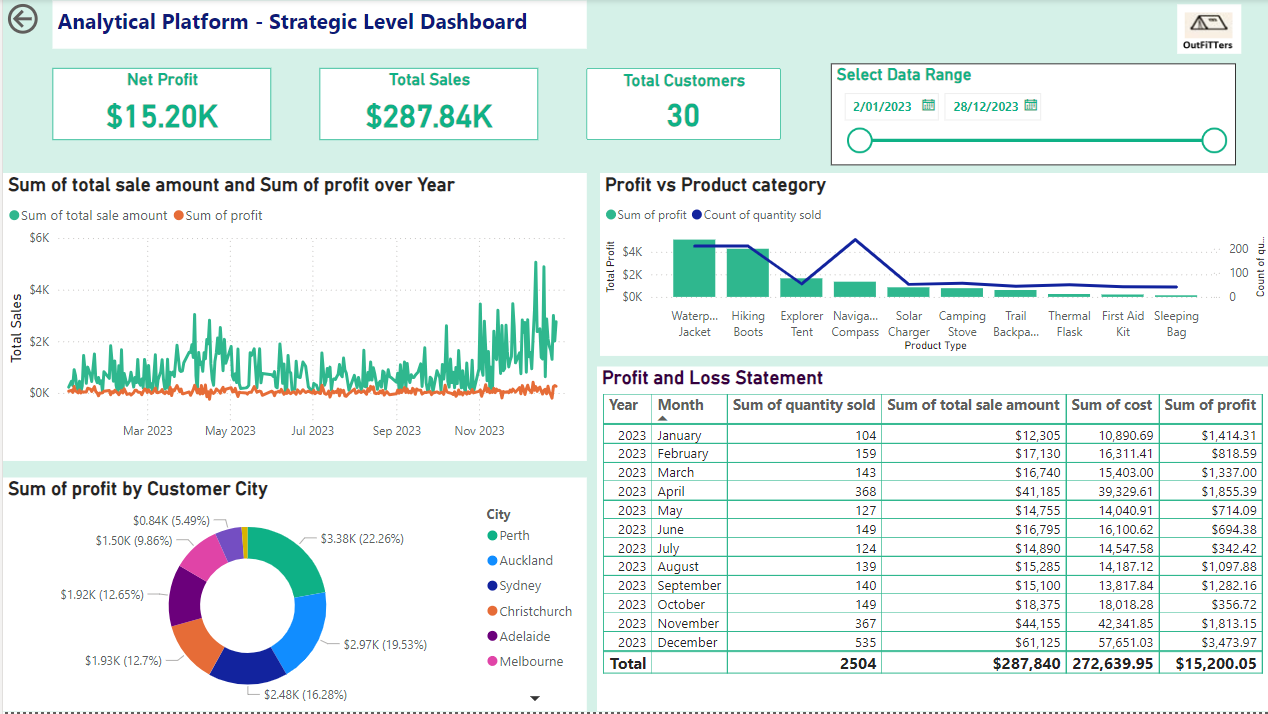

What the dashboard file says about the page in this screenshot:
{"tool":"powerbi","page":{"name":"Strategic","canvas":[1280,720],"ordinal":1},"visuals":[{"type":"lineChart","title":"Sum of total sale amount and Sum of profit over Year","fields":{"Category":["Sales.date.Variation.Date Hierarchy.Year","Sales.date.Variation.Date Hierarchy.Quarter","Sales.date.Variation.Date Hierarchy.Month","Sales.date.Variation.Date Hierarchy.Day"],"Y":["Sum(Sales.total sale amount)","Sum(Sales.profit)"]},"box":[0,175.6,589,290.7],"z":0},{"type":"tableEx","title":"Profit and Loss Statement","fields":{"Values":["Sales.date.Variation.Date Hierarchy.Year","Sales.date.Variation.Date Hierarchy.Month","Sum(Sales.quantity sold)","Sum(Sales.total sale amount)","Sum(Sales.cost)","Sum(Sales.profit)"]},"box":[599.6,371,681.4,348.3],"z":1000},{"type":"actionButton","box":[0,0,100,40],"z":2000},{"type":"card","title":"Net Profit","fields":{"Values":["Sum(Sales.profit)"]},"box":[49.4,70,220.9,72.7],"z":3000},{"type":"slicer","title":"Select Data Range","fields":{"Values":["Sales.date"]},"box":[835.8,65.1,408.8,103],"z":4000},{"type":"donutChart","title":"Sum of profit by Customer City","fields":{"Category":["Customer.City"],"Y":["Sum(Sales.profit)"]},"box":[0,483,589,236.2],"z":5000},{"type":"card","title":"Total Sales","fields":{"Values":["Sum(Sales.total sale amount)"]},"box":[319.8,70,220.9,72.7],"z":6000},{"type":"lineStackedColumnComboChart","title":"Profit vs Product category","fields":{"Category":["Products.name"],"Y":["Sum(Sales.profit)"],"Y2":["CountNonNull(Sales.quantity sold)"]},"box":[602.7,175.6,676.8,184.7],"z":7000},{"type":"card","title":"Total Customers","fields":{"Values":["CountNonNull(Customer.Customer ID)"]},"box":[588.7,70,196.2,72.7],"z":8000},{"type":"textbox","box":[50,1.5,539.1,48.5],"z":9000},{"type":"image","box":[1155.3,0,124.2,60.6],"z":10000}]}

Visuals, with their boxes in screenshot pixels (x1, y1, x2, y2), scaled from the page's 1280x720 canvas onto the 1268x714 screenshot:
"Sum of total sale amount and Sum of profit over Year" lineChart: 0 174 583 462
"Profit and Loss Statement" tableEx: 594 368 1267 713
actionButton: 0 0 99 40
"Net Profit" card: 49 69 268 142
"Select Data Range" slicer: 828 65 1233 167
"Sum of profit by Customer City" donutChart: 0 479 583 713
"Total Sales" card: 317 69 536 142
"Profit vs Product category" lineStackedColumnComboChart: 597 174 1267 357
"Total Customers" card: 583 69 778 142
textbox: 50 1 584 50
image: 1144 0 1267 60
